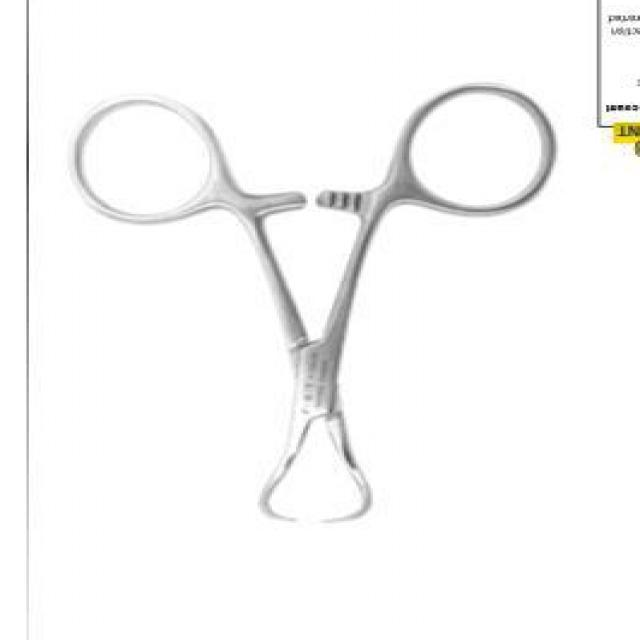Towel_clip: (64, 78, 566, 532)
